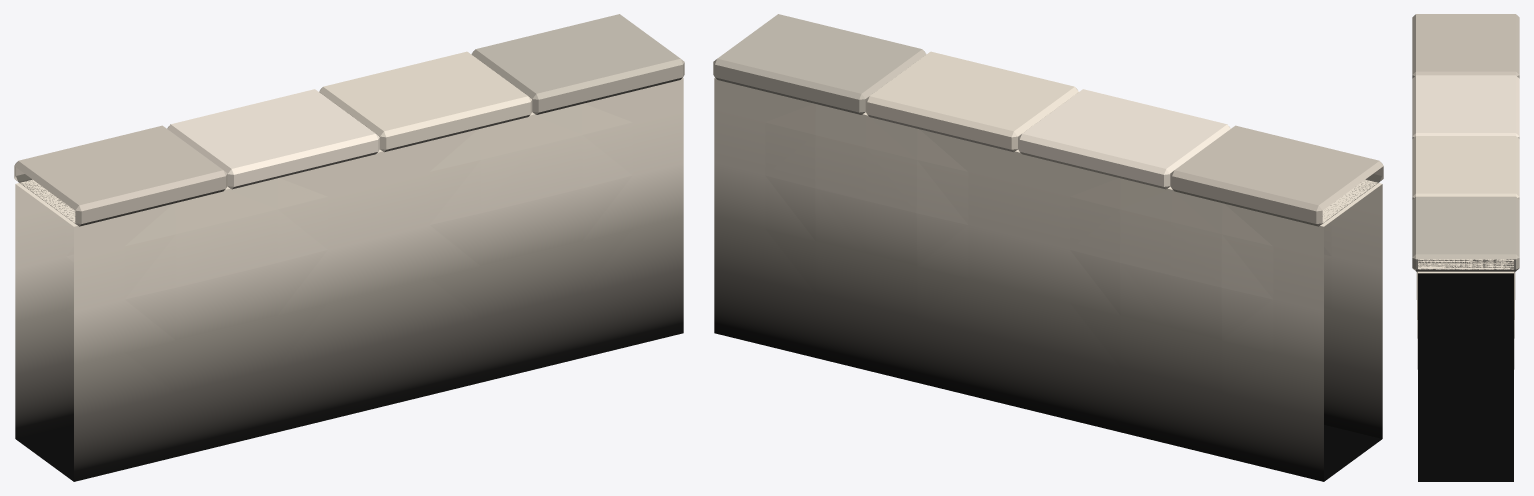
File: SM_VKI_Wall_Stone_Plain_300_Cut.fbx
3 renders of one model, left to right at view 1: azimuth 30°, elevation 25°; view 2: azimuth 150°, elevation 25°; view 3: azimuth 270°, elevation 25°, orthographic. The views are drawn at different scales.
Visible parts, largest first — view 1: SM_VKI_Wall_Stone_Plain_300_Cut.001; view 2: SM_VKI_Wall_Stone_Plain_300_Cut.001; view 3: SM_VKI_Wall_Stone_Plain_300_Cut.001.
Part boxes in pixels (<box>): SM_VKI_Wall_Stone_Plain_300_Cut.001: <box>14,14,684,481</box>; SM_VKI_Wall_Stone_Plain_300_Cut.001: <box>713,14,1383,481</box>; SM_VKI_Wall_Stone_Plain_300_Cut.001: <box>1412,14,1519,481</box>.
Size of the model in its own units: 3 by 1.3 by 0.56.
